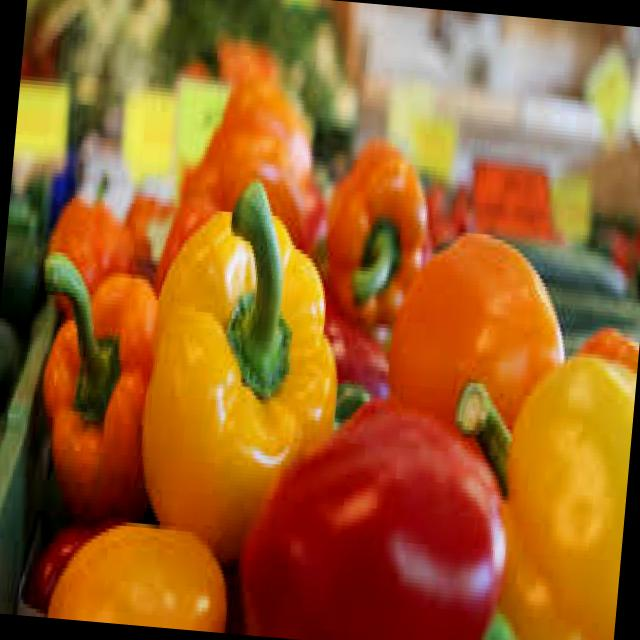organic: (1, 133, 640, 640)
plastic: (0, 299, 54, 613)
